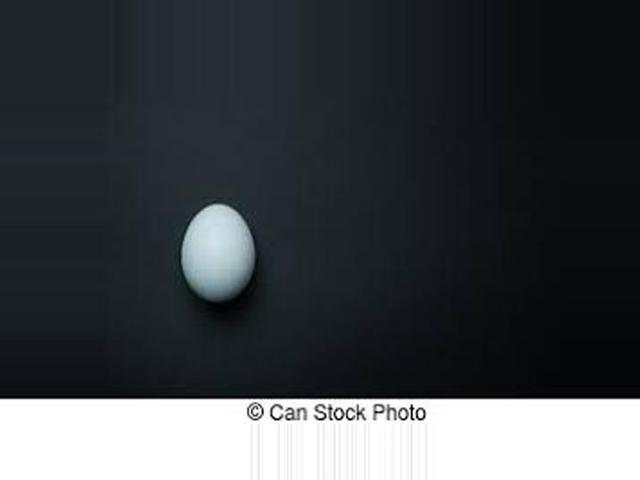egg: (179, 203, 254, 302)
